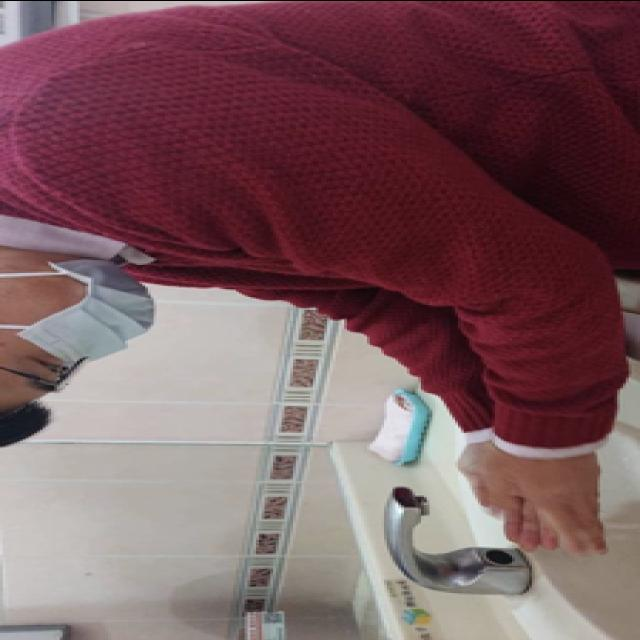with_mask: (0, 255, 159, 400)
